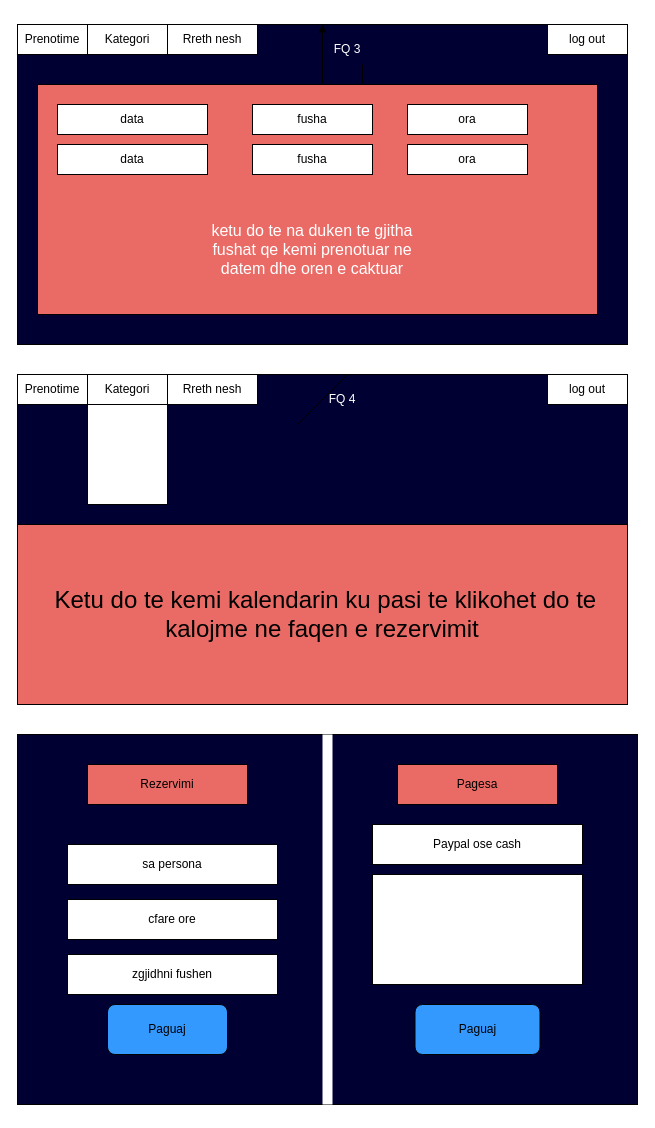
This 655x1128 diagram has some shape labels left out. Here are the shapes that lost their labels. From the top down, the centre of each, then its label:
point (127, 454): basketball football cycling racing voleyball
point (477, 929): Ketu do te vendosen te dhenat e kartes
